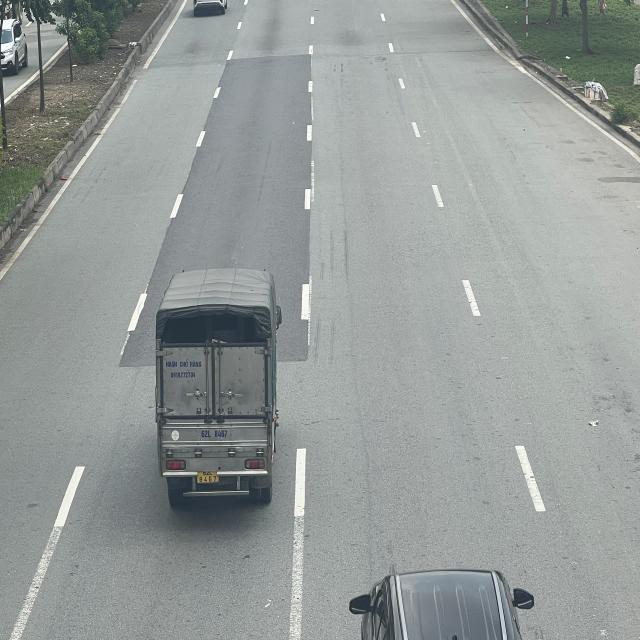truck: (154, 268, 280, 502)
